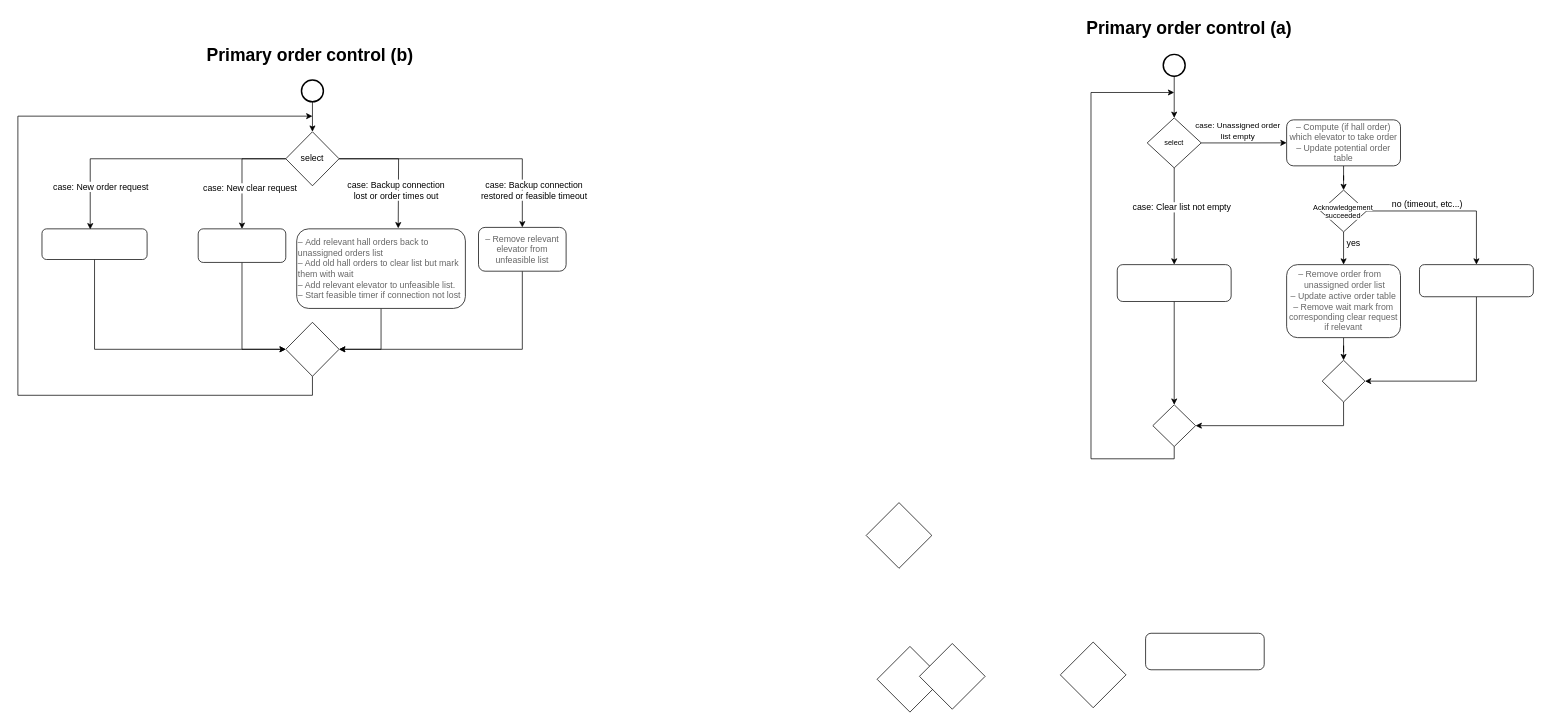
Some shapes in this 1546 by 725 pixel diagram are drawn without their labels. Here are the shapes that lost their labels. From the top down, the centre of each, then its label:
point (94, 244): – Add new order to unassigned order list
point (241, 245): – Add new clear request to clear list
point (1174, 282): – Update active- and potential order table – Empty clear list
point (1476, 280): - Remove the order from potential order table
